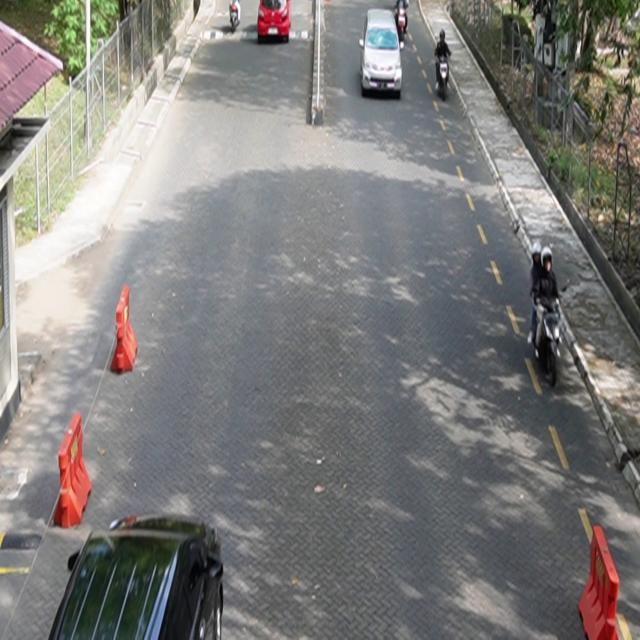car: (360, 9, 405, 99), (258, 1, 292, 44)
